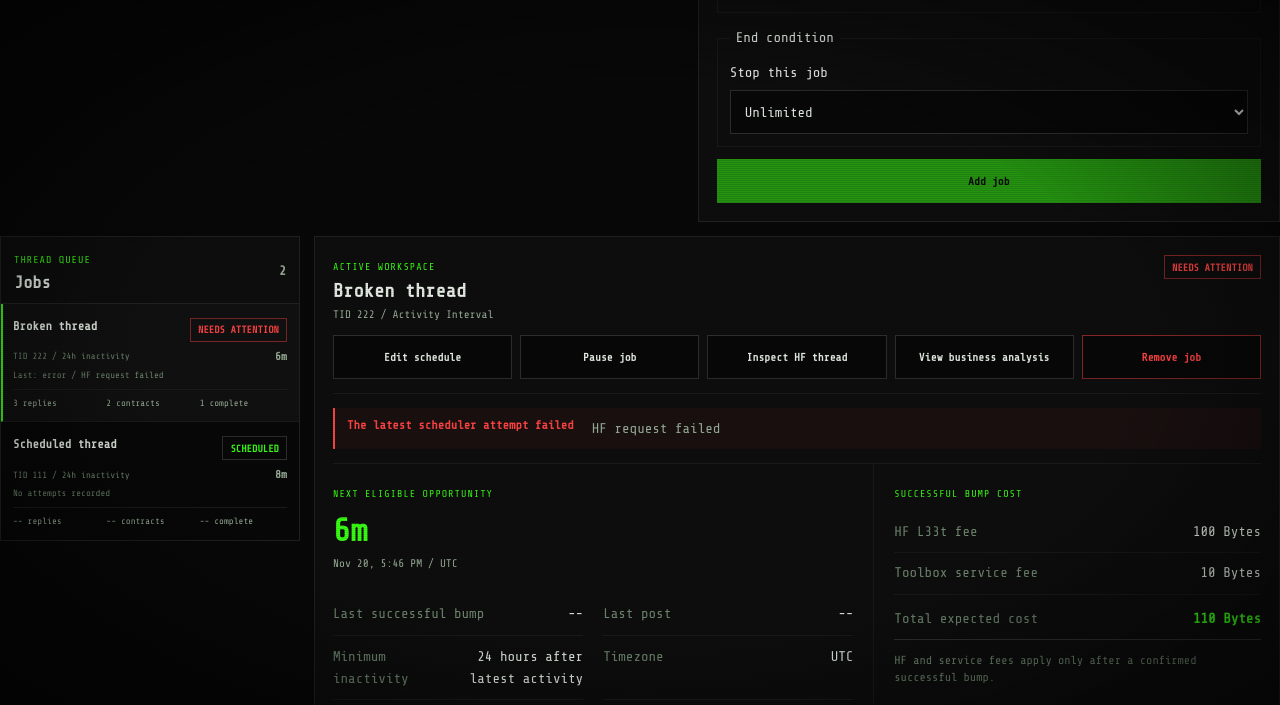
Test case: Bump Service page interactions › rolls an optimistic pause back when the request fails
This screenshot has width=1280, height=705.
(page scrolled)
Click the button "Pause job".
click(610, 357)  # box x1=520 y1=335 x2=699 y2=379
(page scrolled)
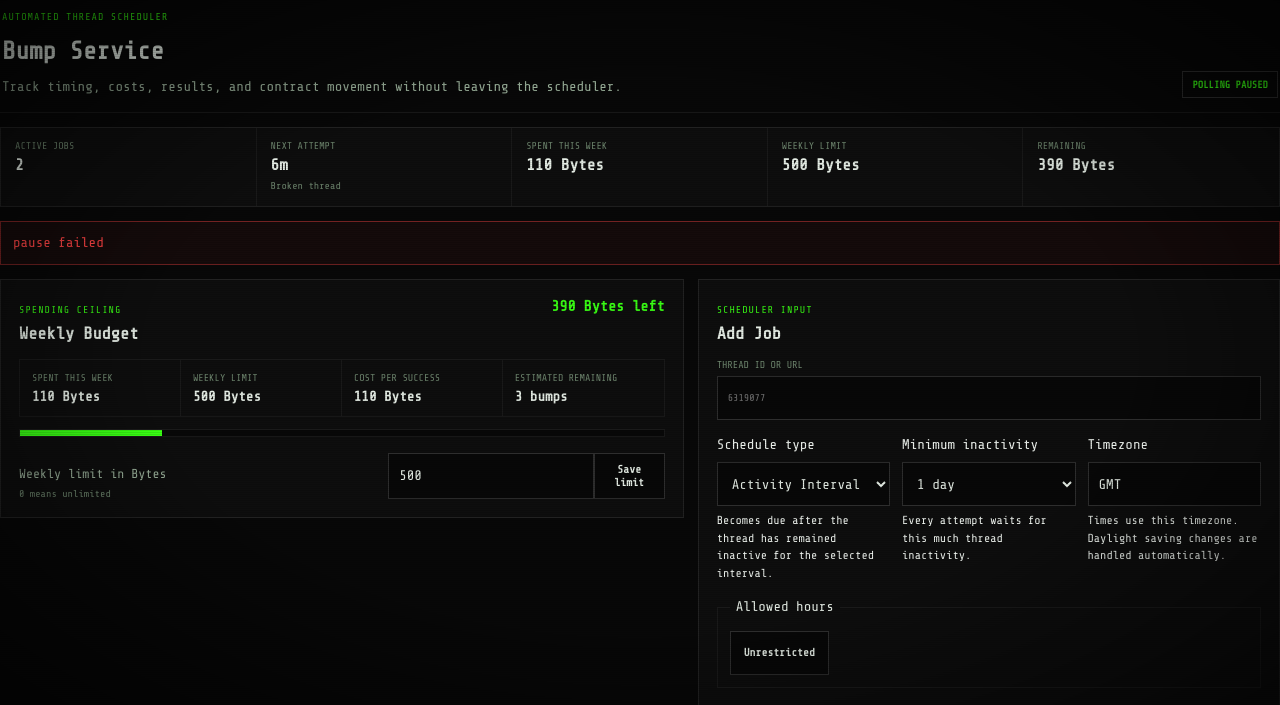
Expected: the text "pause failed" is shown, x1=0 y1=221 x2=1279 y2=266
